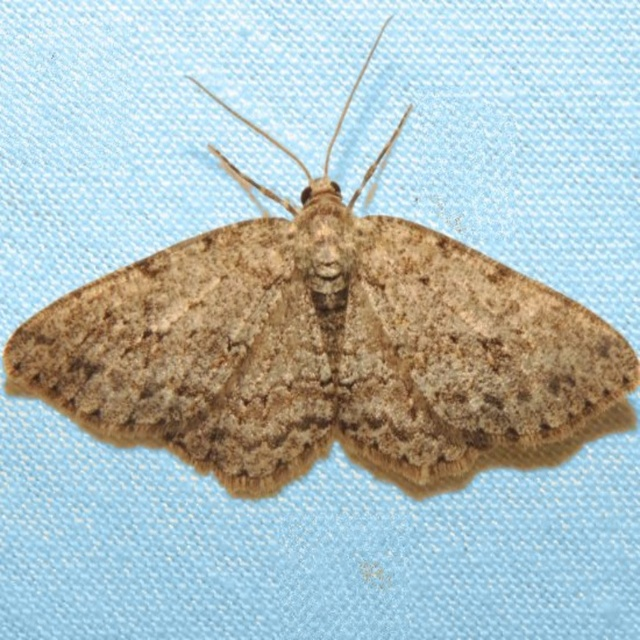Butterfly: (16, 46, 634, 510)
